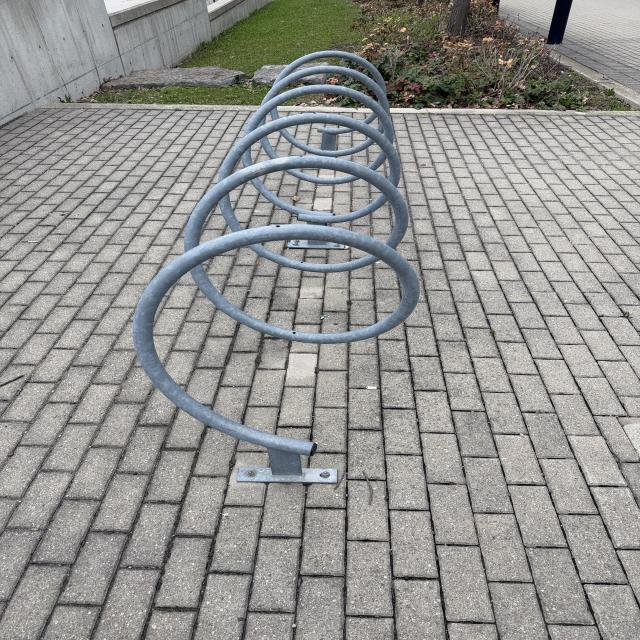Bicycle Rack: (138, 51, 417, 482)
